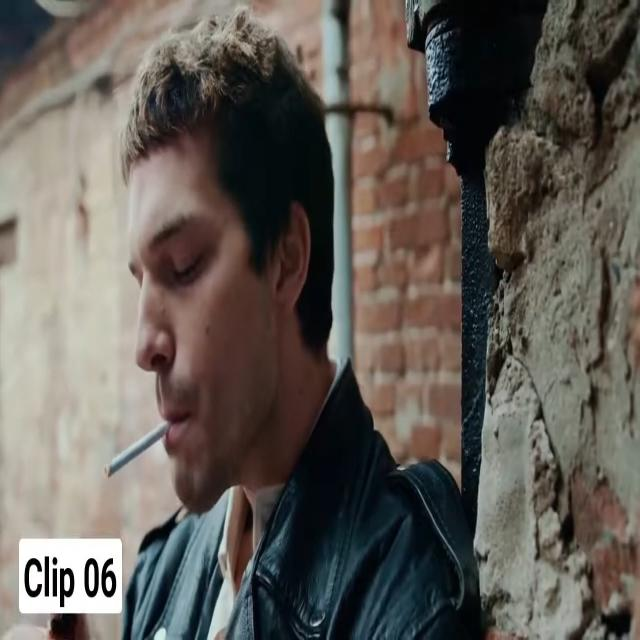Курение: (100, 421, 188, 476)
